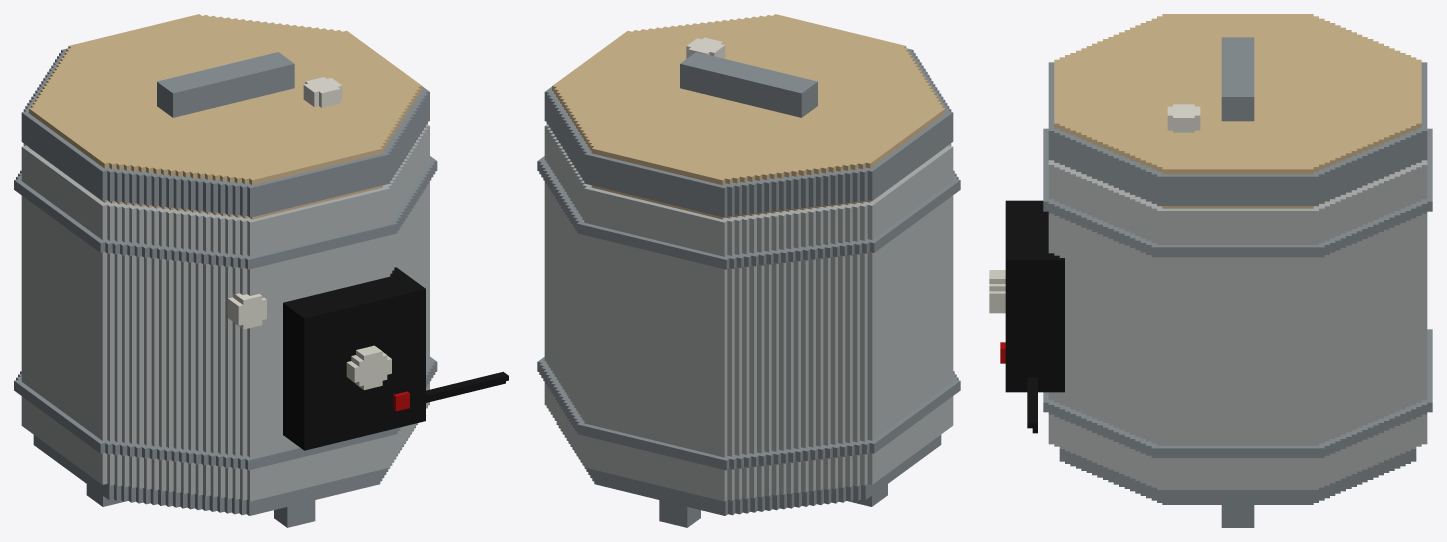
File: kiln.glb
3 views of the same model, side by side, from view 1: azimuth 30°, elevation 25°; view 2: azimuth 150°, elevation 25°; view 3: azimuth 270°, elevation 25° (orthographic).
Parts seen in each view (by area): view 1: kiln:compound; view 2: kiln:compound; view 3: kiln:compound.
Boxes of the visible parts, x1,y1,x2,y2 form: kiln:compound: (14,14,508,527); kiln:compound: (537,14,960,527); kiln:compound: (989,14,1432,527).
Bounding box in the file's own units: 0.296 × 0.324 × 0.328.
